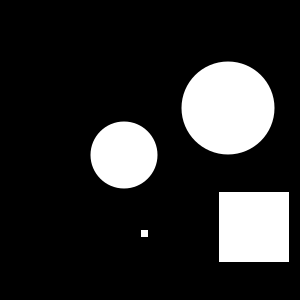circle: (219, 192, 289, 262), (141, 230, 148, 237)
rectangle: (182, 61, 274, 154), (90, 122, 158, 189)
